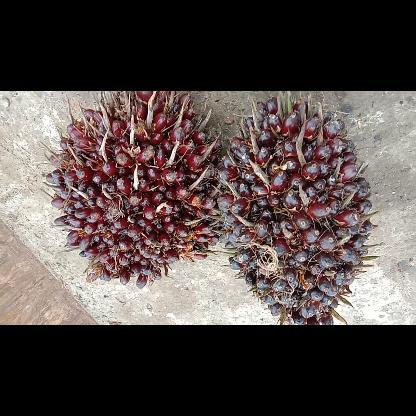Kurang masak: (220, 90, 370, 324)
TBS masak: (45, 90, 217, 286)
